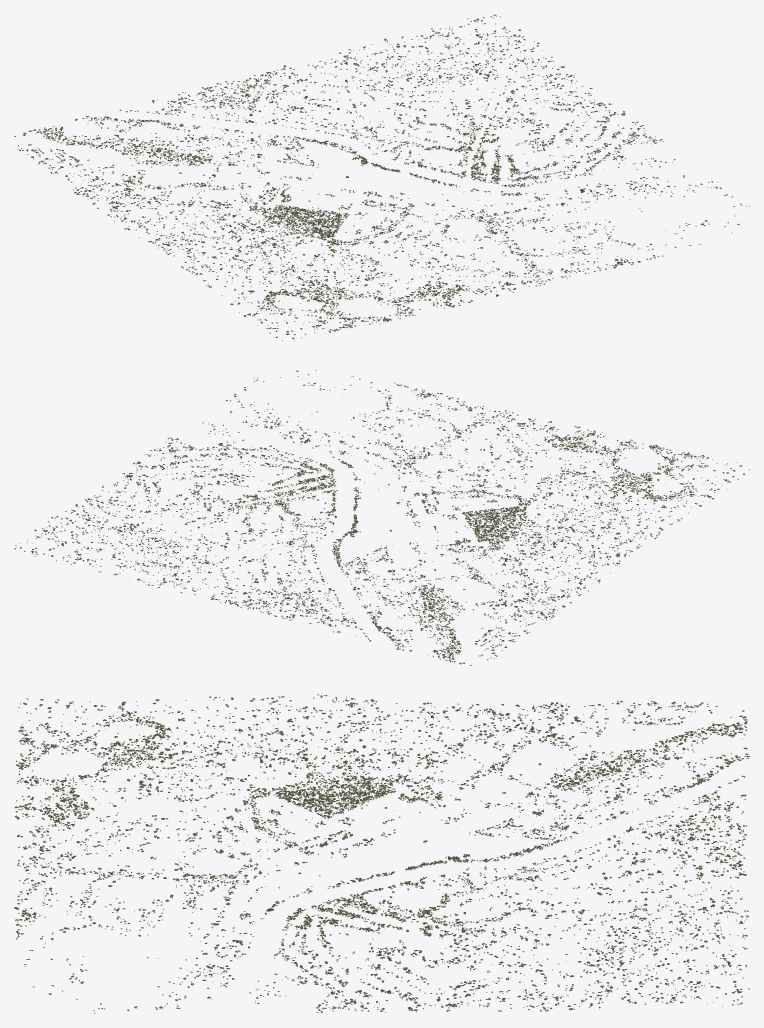
File: people_first_backdrop_part2.glb
3 views of the same model, one above another, from view 1: azimuth 30°, elevation 25°; view 2: azimuth 150°, elevation 25°; view 3: azimuth 270°, elevation 25° (orthographic). The views are drawn at different scales.
Parts seen in each view (by area): view 1: bg_trees_joined_s08, bg_trees_joined_s14, bg_trees_joined_s09, bg_trees_joined_s15, bg_trees_joined_s12, bg_trees_joined_s13, bg_trees_joined_s11, bg_trees_joined_s10, bg_trees_joined_s00, bg_trees_joined_s03, bg_trees_joined_s04, bg_trees_joined_s01 (+1 smaller); view 2: bg_trees_joined_s08, bg_trees_joined_s14, bg_trees_joined_s09, bg_trees_joined_s15, bg_trees_joined_s12, bg_trees_joined_s13, bg_trees_joined_s11, bg_trees_joined_s10, bg_trees_joined_s00, bg_trees_joined_s03, bg_trees_joined_s04, bg_trees_joined_s01 (+1 smaller); view 3: bg_trees_joined_s08, bg_trees_joined_s14, bg_trees_joined_s09, bg_trees_joined_s15, bg_trees_joined_s12, bg_trees_joined_s13, bg_trees_joined_s11, bg_trees_joined_s10, bg_trees_joined_s00, bg_trees_joined_s03, bg_trees_joined_s04, bg_trees_joined_s05 (+2 smaller).
Boxes of the visible parts, bbox=[...] form: bg_trees_joined_s08: bbox=[148, 211, 354, 340]; bg_trees_joined_s14: bbox=[14, 78, 319, 166]; bg_trees_joined_s09: bbox=[292, 236, 529, 340]; bg_trees_joined_s15: bbox=[17, 144, 274, 238]; bg_trees_joined_s12: bbox=[429, 14, 637, 148]; bg_trees_joined_s13: bbox=[254, 14, 493, 133]; bg_trees_joined_s11: bbox=[507, 122, 749, 216]; bg_trees_joined_s10: bbox=[474, 198, 739, 286]; bg_trees_joined_s00: bbox=[276, 191, 382, 234]; bg_trees_joined_s03: bbox=[417, 155, 524, 196]; bg_trees_joined_s04: bbox=[398, 131, 500, 176]; bg_trees_joined_s01: bbox=[358, 192, 449, 239]; bg_trees_joined_s08: bbox=[493, 469, 749, 567]; bg_trees_joined_s14: bbox=[247, 561, 471, 665]; bg_trees_joined_s09: bbox=[458, 414, 741, 498]; bg_trees_joined_s15: bbox=[416, 539, 610, 660]; bg_trees_joined_s12: bbox=[14, 455, 264, 548]; bg_trees_joined_s13: bbox=[15, 528, 315, 607]; bg_trees_joined_s11: bbox=[146, 377, 344, 484]; bg_trees_joined_s10: bbox=[296, 370, 513, 460]; bg_trees_joined_s00: bbox=[406, 499, 509, 540]; bg_trees_joined_s03: bbox=[272, 460, 361, 506]; bg_trees_joined_s04: bbox=[254, 487, 357, 524]; bg_trees_joined_s01: bbox=[396, 469, 502, 507]; bg_trees_joined_s08: bbox=[26, 694, 382, 803]; bg_trees_joined_s14: bbox=[506, 710, 749, 857]; bg_trees_joined_s09: bbox=[14, 702, 256, 859]; bg_trees_joined_s15: bbox=[382, 700, 717, 806]; bg_trees_joined_s12: bbox=[381, 912, 742, 1012]; bg_trees_joined_s13: bbox=[508, 854, 749, 1002]; bg_trees_joined_s11: bbox=[76, 910, 382, 1013]; bg_trees_joined_s10: bbox=[14, 856, 245, 994]; bg_trees_joined_s00: bbox=[271, 785, 382, 846]; bg_trees_joined_s03: bbox=[267, 874, 382, 931]; bg_trees_joined_s04: bbox=[381, 867, 492, 929]; bg_trees_joined_s05: bbox=[408, 856, 550, 906].
Size of the model in its own units: 3004 by 62.43 by 3014.
1 material, 1 textured.
